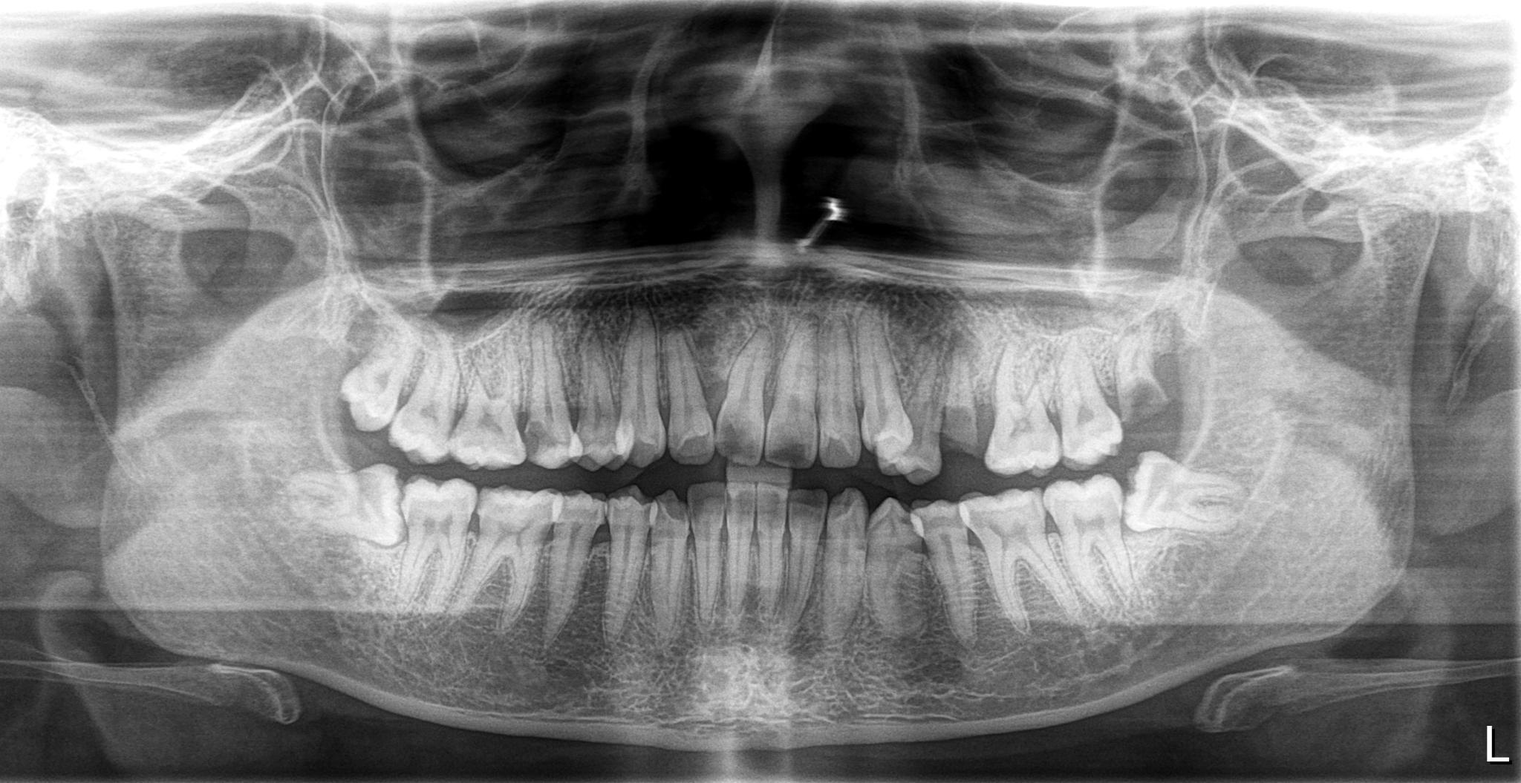Dental Caries: (941, 397, 986, 459), (1121, 375, 1168, 425), (717, 419, 757, 453)
Impacted Third Molar: (284, 473, 403, 547), (1140, 455, 1244, 535)
